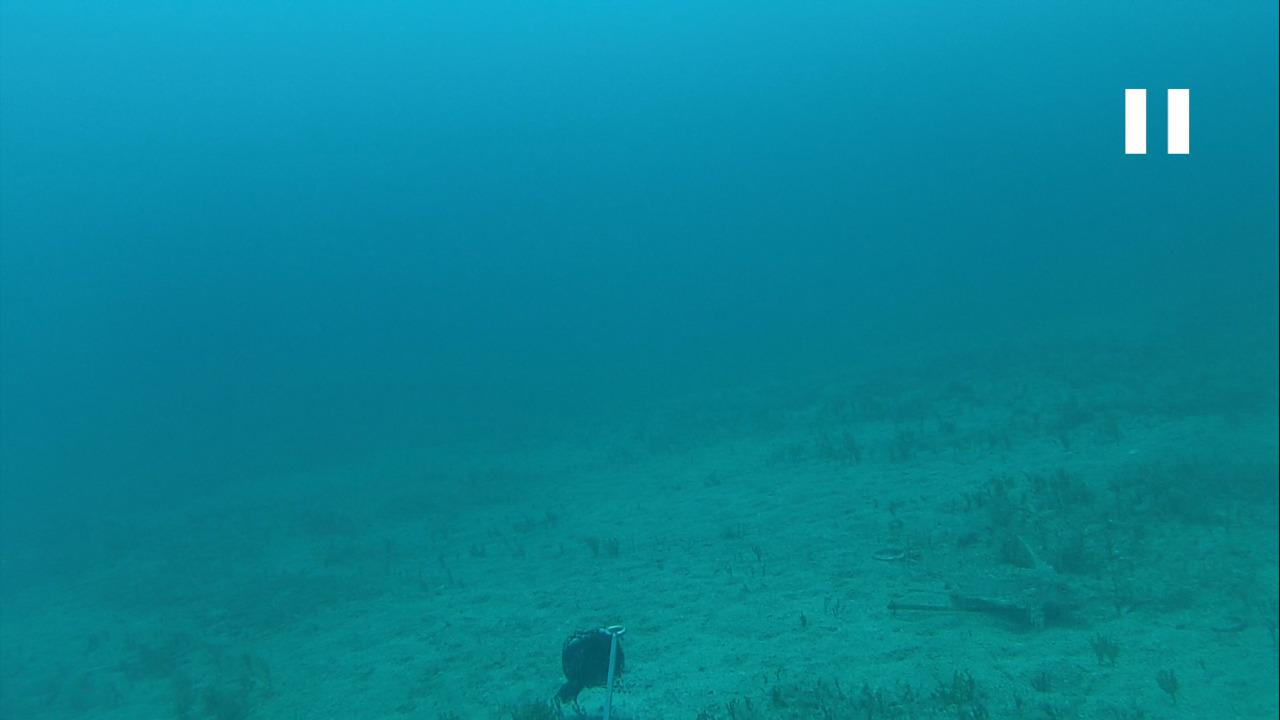dactylopterus: (892, 533, 1091, 638)
